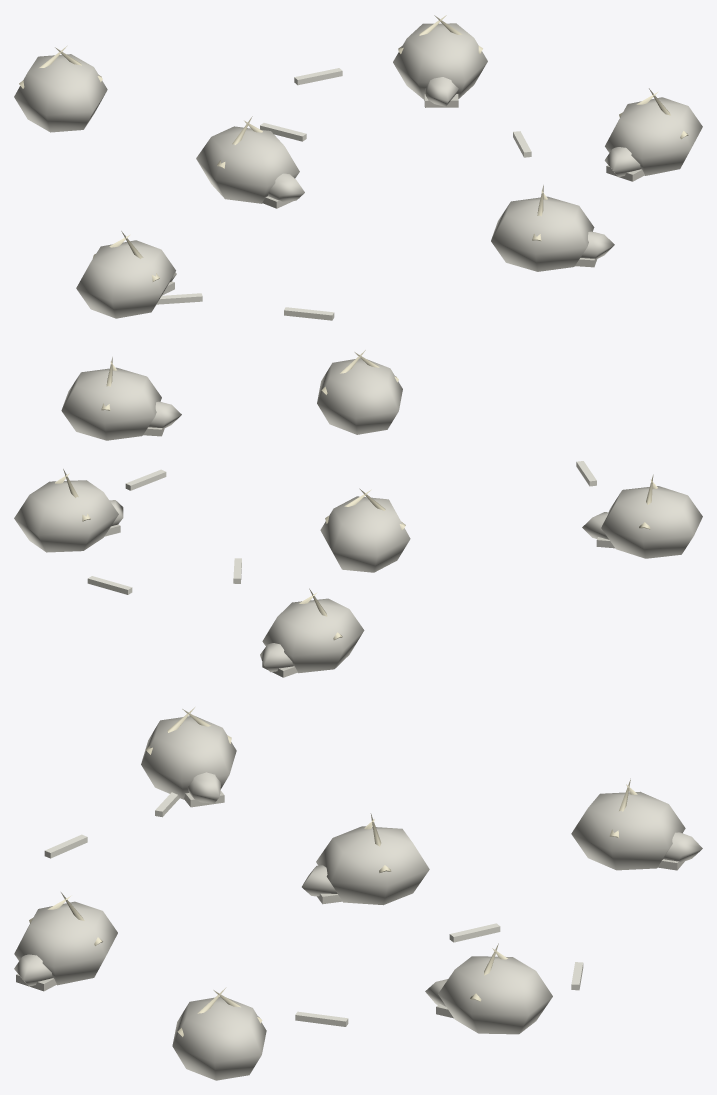
Rendered from skulls.glb.
3 renders of one model, top to bottom at view 1: azimuth 30°, elevation 25°; view 2: azimuth 150°, elevation 25°; view 3: azimuth 270°, elevation 25°, orthographic. The views are drawn at different scales.
Parts seen in each view (by area): view 1: skull4_cranium, skull1_cranium, skull0_cranium, skull3_cranium, skull5_cranium, skull2_cranium, skull0_snout, skull2_snout, skull5_snout, skull4_snout; view 2: skull2_cranium, skull5_cranium, skull1_cranium, skull4_cranium, skull3_cranium, skull0_cranium, skull3_snout, skull5_snout; view 3: skull2_cranium, skull0_cranium, skull3_cranium, skull5_cranium, skull4_cranium, skull1_cranium, skull1_snout, skull4_snout, skull3_snout, skull0_snout.
Boxes of the visible parts, left/top/right/bottom form: skull4_cranium: left=491, top=196, right=594, bottom=271; skull1_cranium: left=76, top=240, right=175, bottom=318; skull0_cranium: left=196, top=126, right=299, bottom=203; skull3_cranium: left=14, top=54, right=107, bottom=132; skull5_cranium: left=605, top=97, right=702, bottom=175; skull2_cranium: left=393, top=23, right=487, bottom=99; skull0_snout: left=268, top=173, right=304, bottom=202; skull2_snout: left=425, top=77, right=458, bottom=106; skull5_snout: left=604, top=147, right=640, bottom=177; skull4_snout: left=580, top=231, right=614, bottom=259; skull2_cranium: left=14, top=480, right=118, bottom=552; skull5_cranium: left=61, top=367, right=161, bottom=440; skull1_cranium: left=601, top=486, right=702, bottom=558; skull4_cranium: left=317, top=358, right=402, bottom=434; skull3_cranium: left=262, top=598, right=364, bottom=673; skull0_cranium: left=320, top=496, right=410, bottom=572; skull3_snout: left=260, top=643, right=293, bottom=672; skull5_snout: left=148, top=401, right=181, bottom=428; skull2_cranium: left=438, top=956, right=552, bottom=1034; skull0_cranium: left=316, top=826, right=429, bottom=905; skull3_cranium: left=571, top=791, right=685, bottom=870; skull5_cranium: left=172, top=997, right=266, bottom=1080; skull4_cranium: left=14, top=901, right=117, bottom=985; skull1_cranium: left=141, top=716, right=236, bottom=799; skull1_snout: left=187, top=772, right=221, bottom=803; skull4_snout: left=14, top=954, right=52, bottom=986; skull3_snout: left=663, top=832, right=702, bottom=862; skull0_snout: left=302, top=865, right=337, bottom=896.
Size of the model in its own units: 7.62 by 0.9259 by 6.74.
